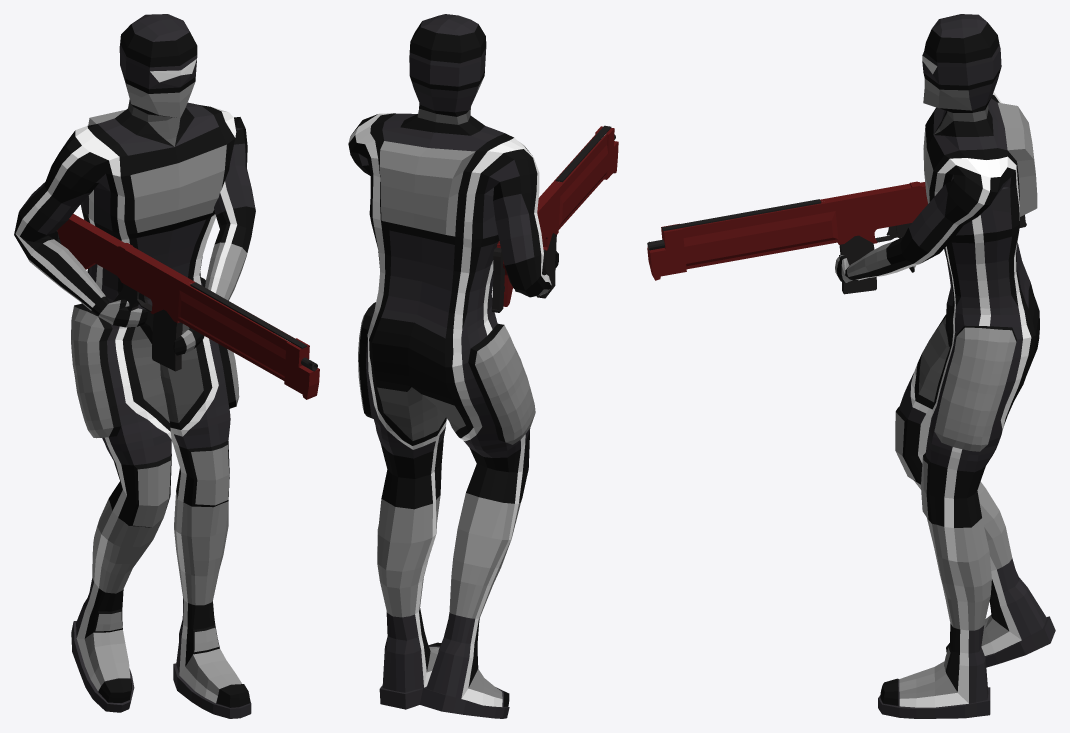
Rendered from MCR9.obj.
3 views of the same model, side by side, from view 1: azimuth 30°, elevation 25°; view 2: azimuth 150°, elevation 25°; view 3: azimuth 270°, elevation 25° (orthographic). The views are drawn at different scales.
Visible parts, largest first — view 1: metarig_object_metarig_mesh, Cube.001; view 2: metarig_object_metarig_mesh, Cube.001; view 3: metarig_object_metarig_mesh, Cube.001.
Boxes of the visible parts, x1,y1,x2,y2 form: metarig_object_metarig_mesh: [14, 14, 255, 718]; Cube.001: [48, 213, 319, 399]; metarig_object_metarig_mesh: [348, 14, 558, 718]; Cube.001: [491, 125, 618, 312]; metarig_object_metarig_mesh: [835, 14, 1055, 718]; Cube.001: [647, 181, 1026, 294].
Size of the model in its own units: 0.5397 by 1.7 by 0.9359.
Materials: 2 (2 with a texture image).
